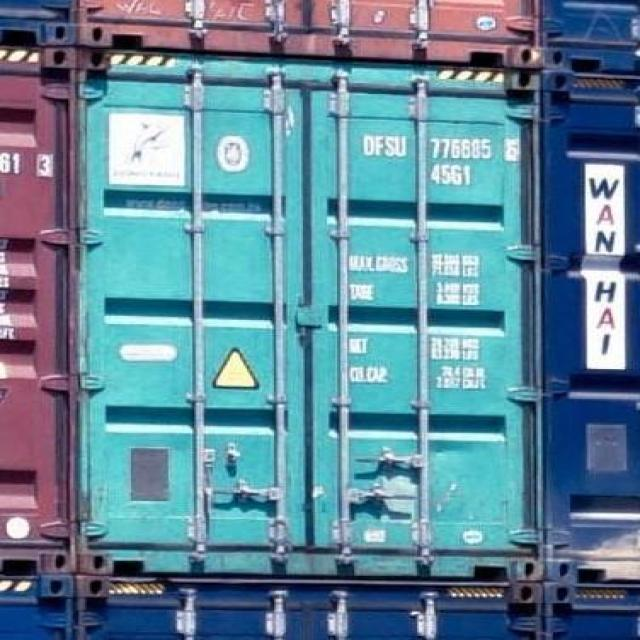ISO: (433, 163, 473, 188)
container_number: (363, 138, 516, 162), (0, 152, 55, 178)
